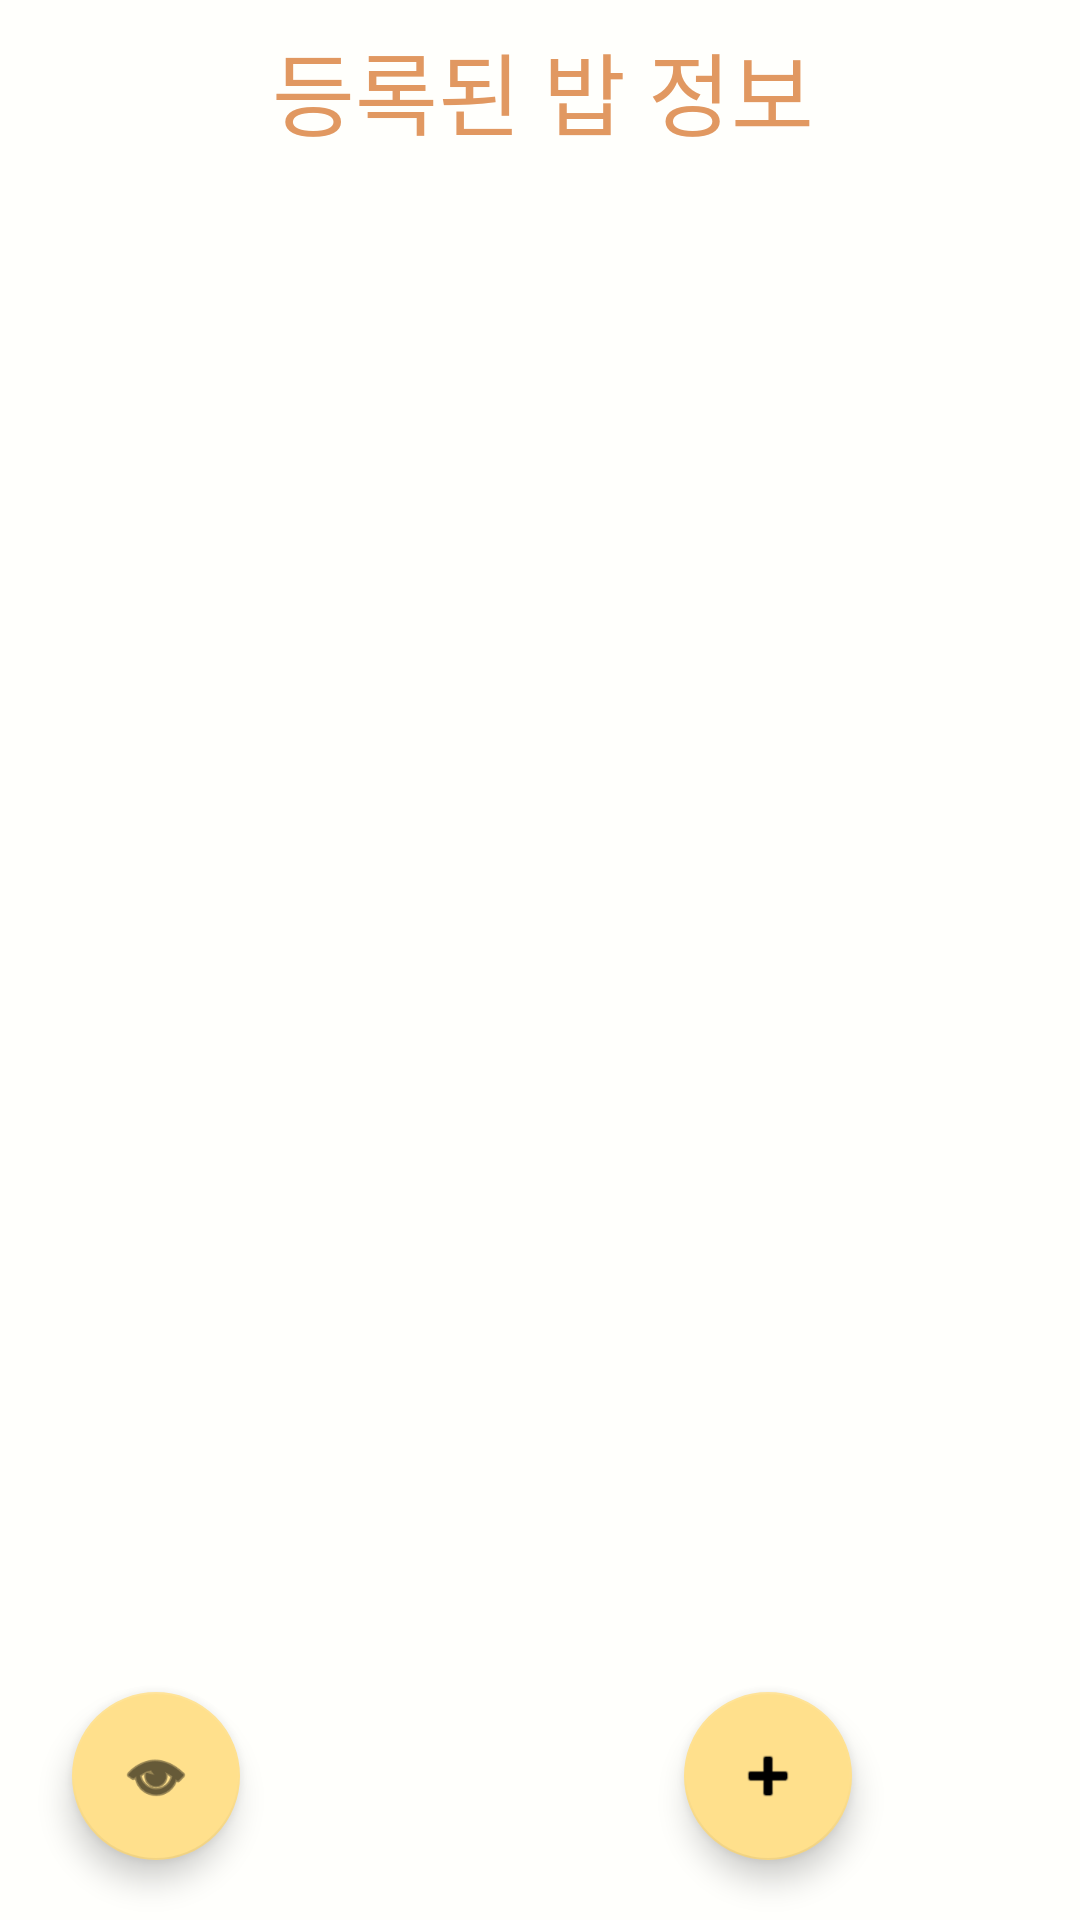

Point at icon controls on the screen. Image size 1080*1920, points as (x,y).
add: (768,1776)
view: (156,1776)
